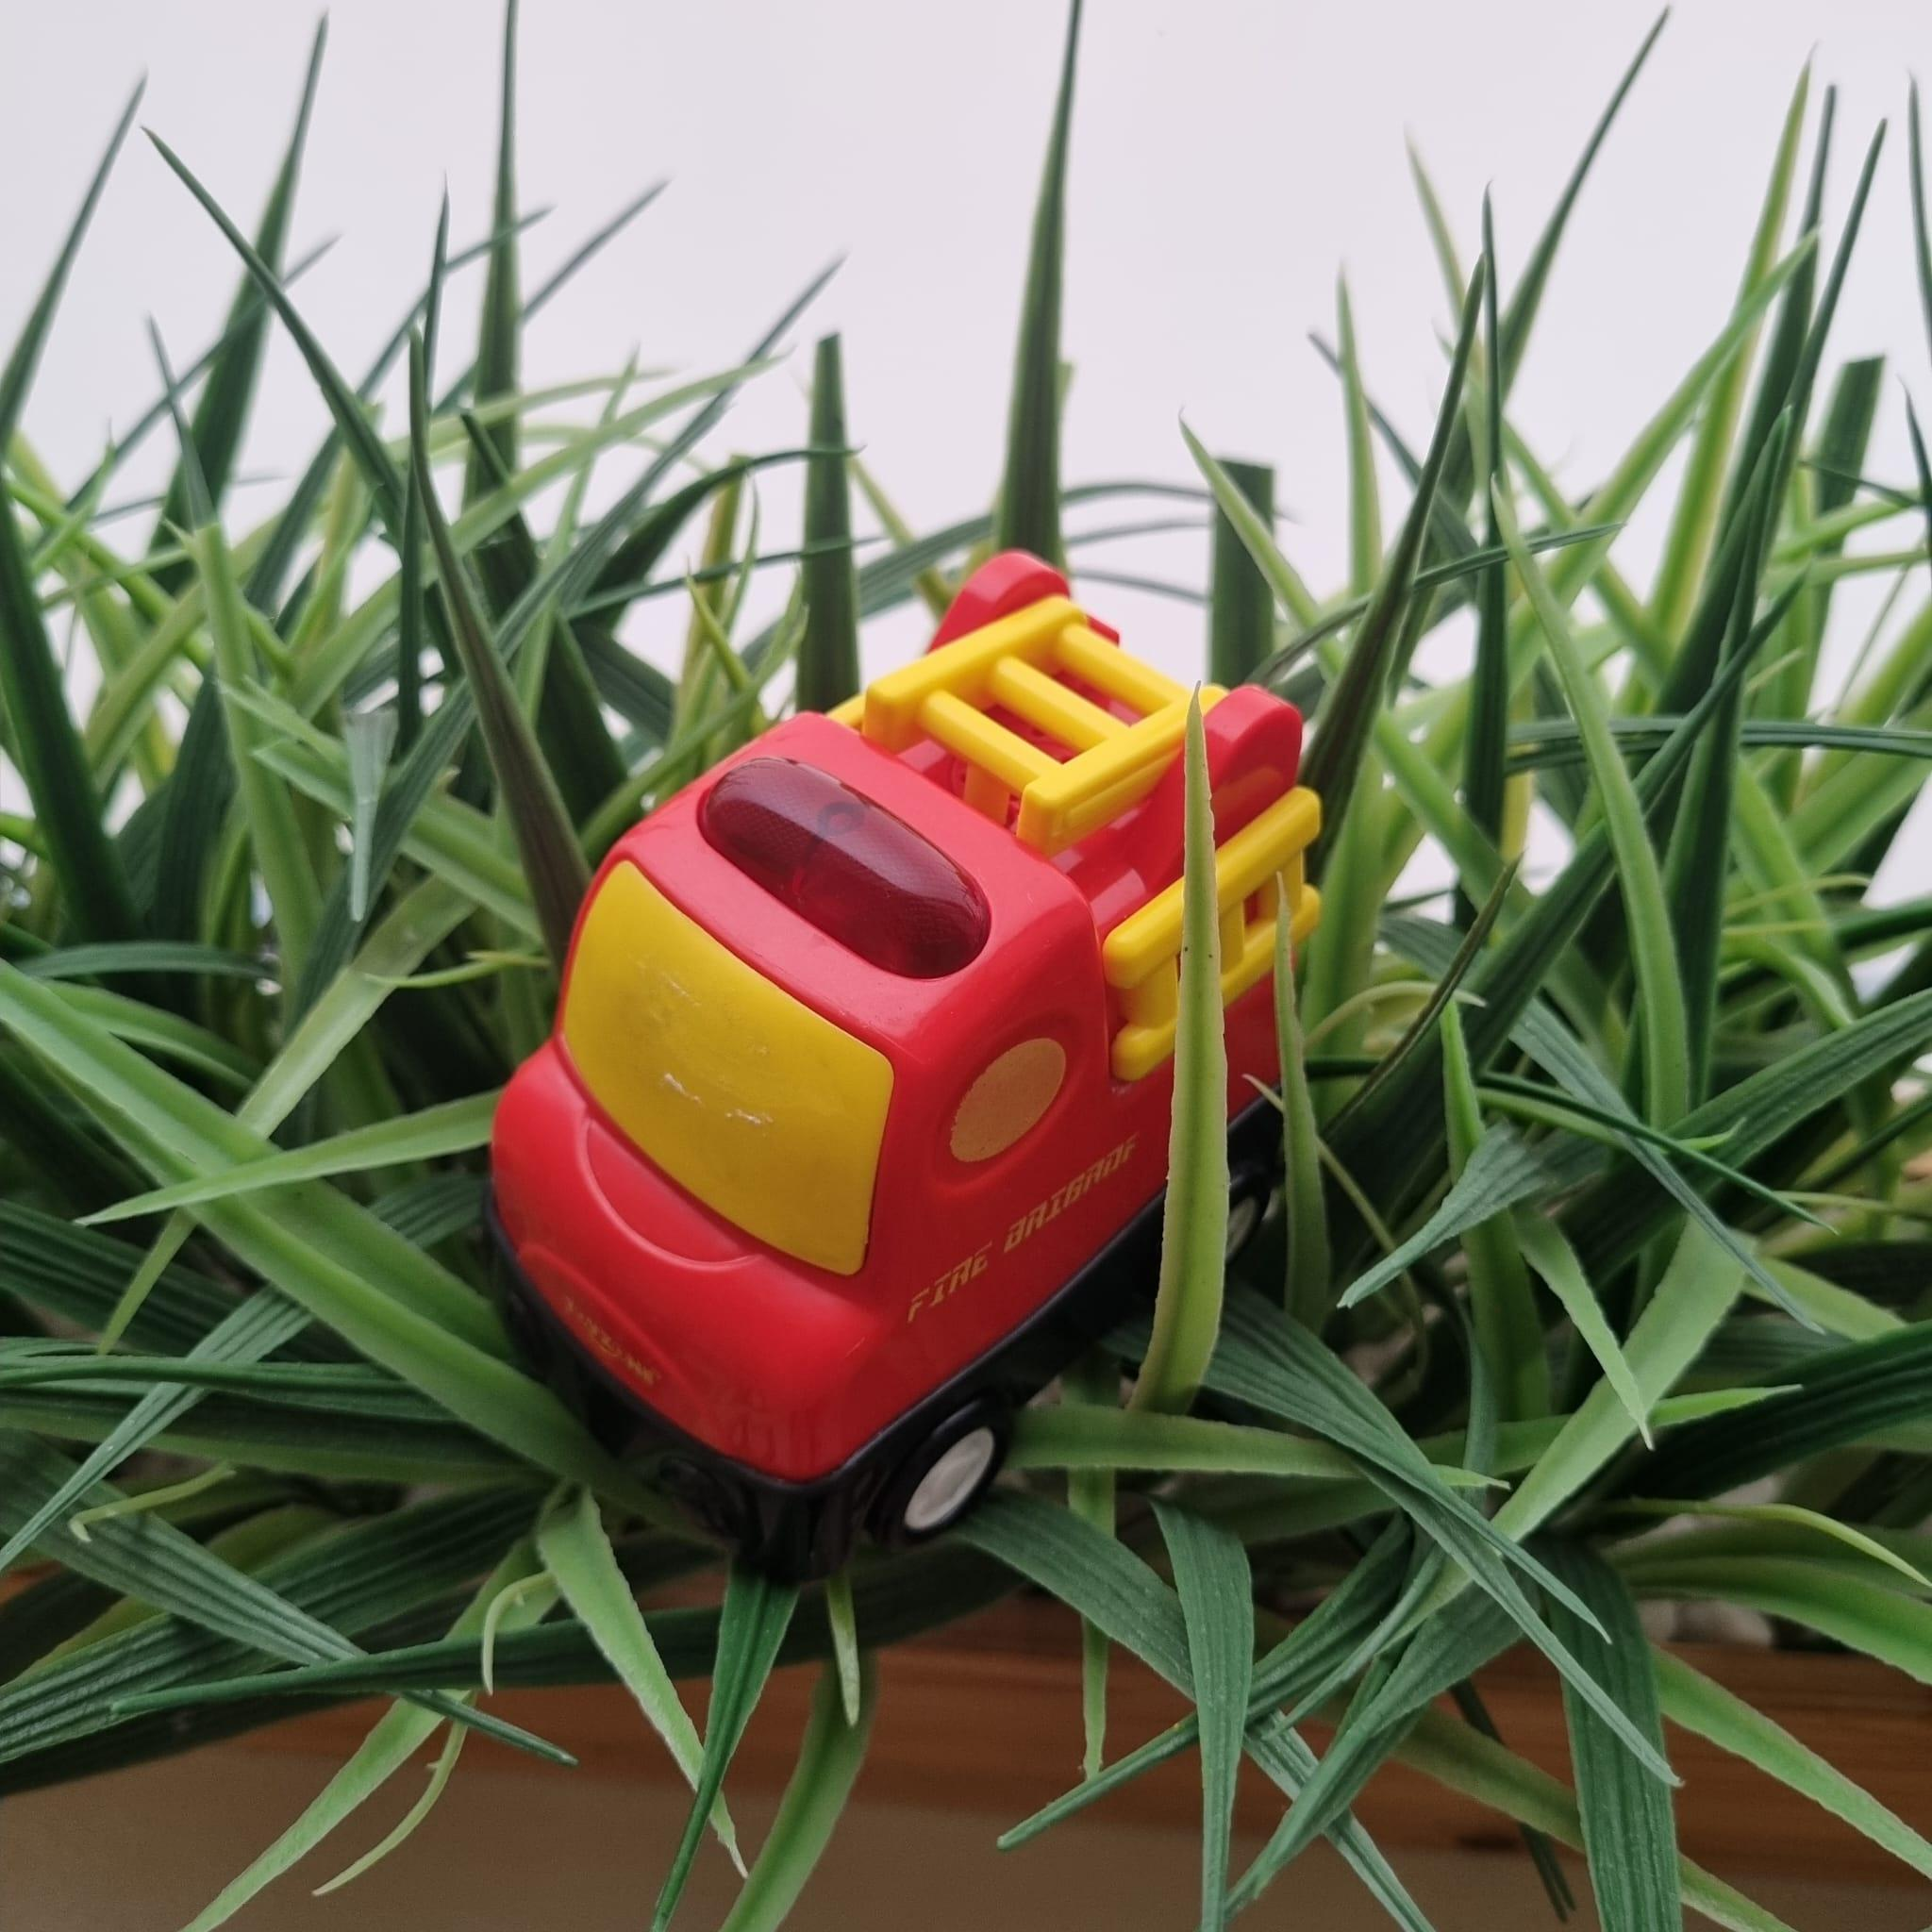firetruck_off: (479, 545, 1315, 1582)
